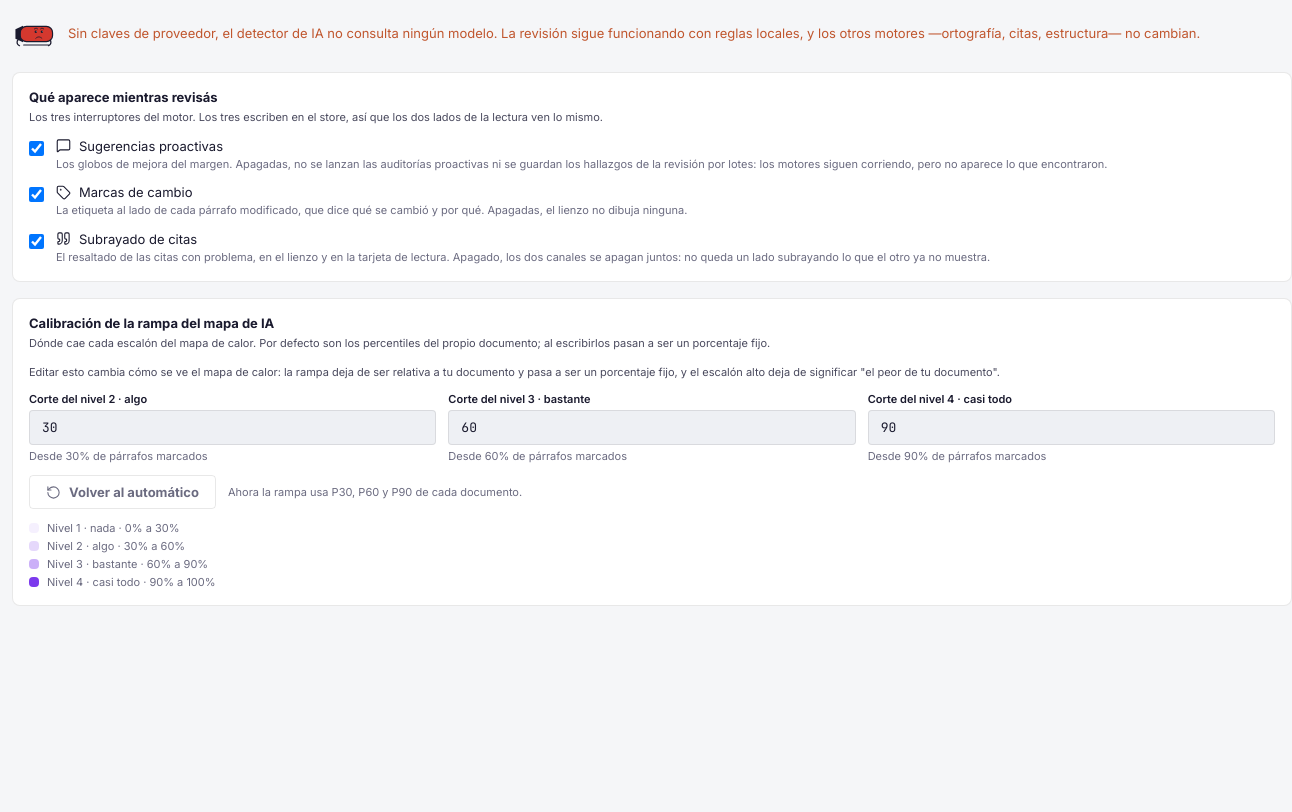
Test case: Revisión — la calibración de la rampa › escribir un corte lo guarda y enciende el botón de volver
Step 1. Replace the text in the number field labelled "Corte del nivel 2 · algo" with "10" → (233, 428), box [29,410,436,445]
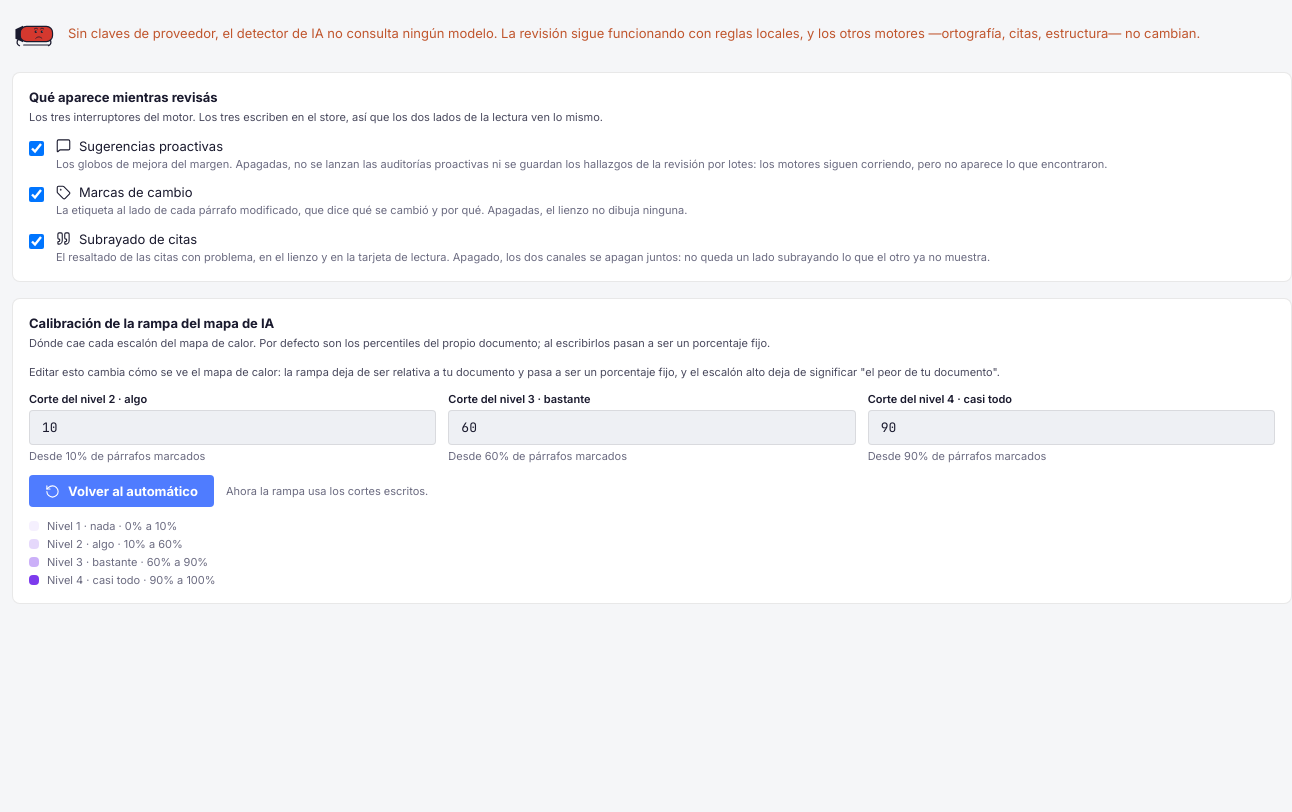
expect the button with test id "boton-cortes-automaticos" is enabled: met, box [29,475,214,507]
expect the text "Ahora la rampa usa los cortes escritos." is shown: met, box [226,484,428,498]
